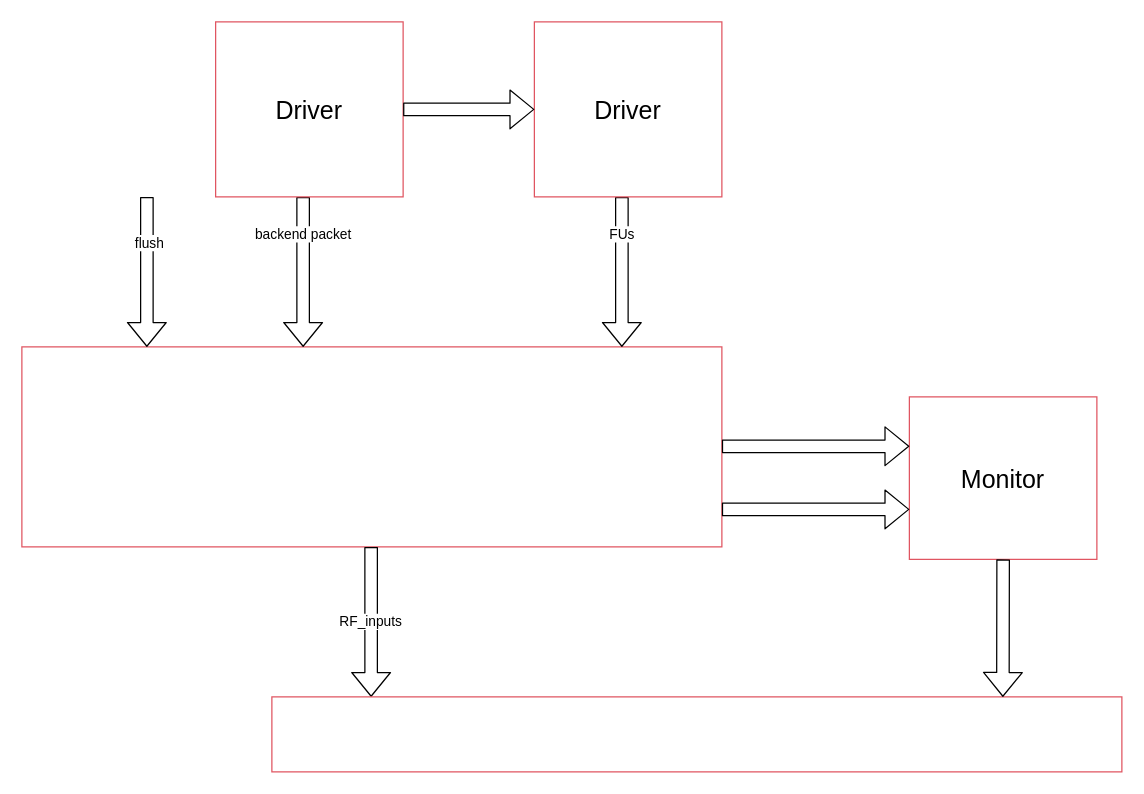
Image size: 1144x794. Some labels were removed from this diagram. The centre of each missing label's shape, as x and y in pixels:
"RS" goes at point 371,446.
"Scoreboard" goes at point 696,734.
